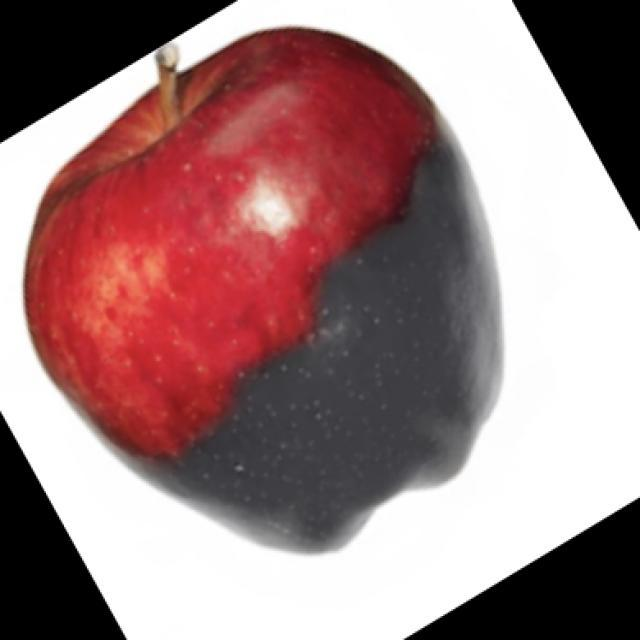Rotten: (42, 45, 468, 525)
